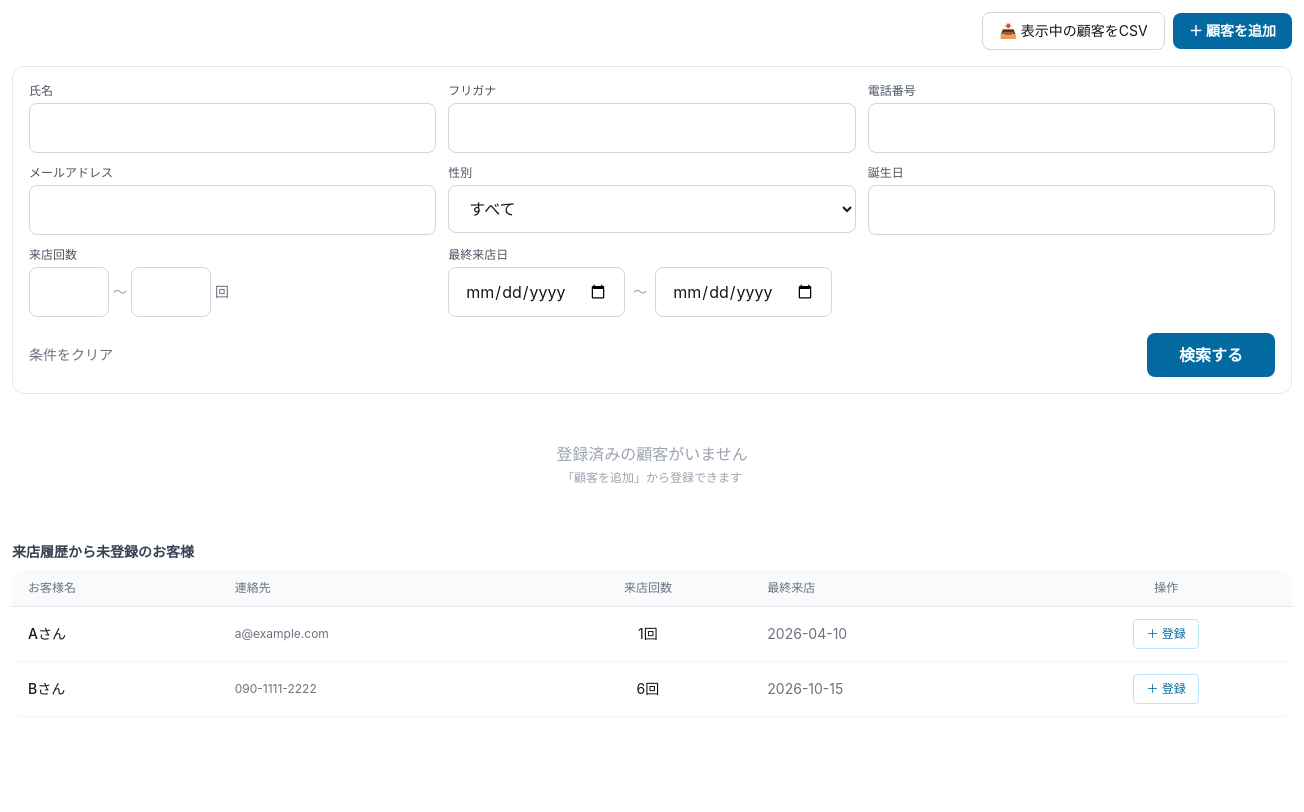
Scenario: 来店回数・最終来店日の条件が「来店履歴から未登録のお客様」にも効く（回帰）
This screenshot has width=1304, height=812.
expect the text "Aさん" is shown: met, box [12,606,219,662]
Type "5" into the number field named "来店回数（最小）" at (69, 292), box [29,267,109,317]
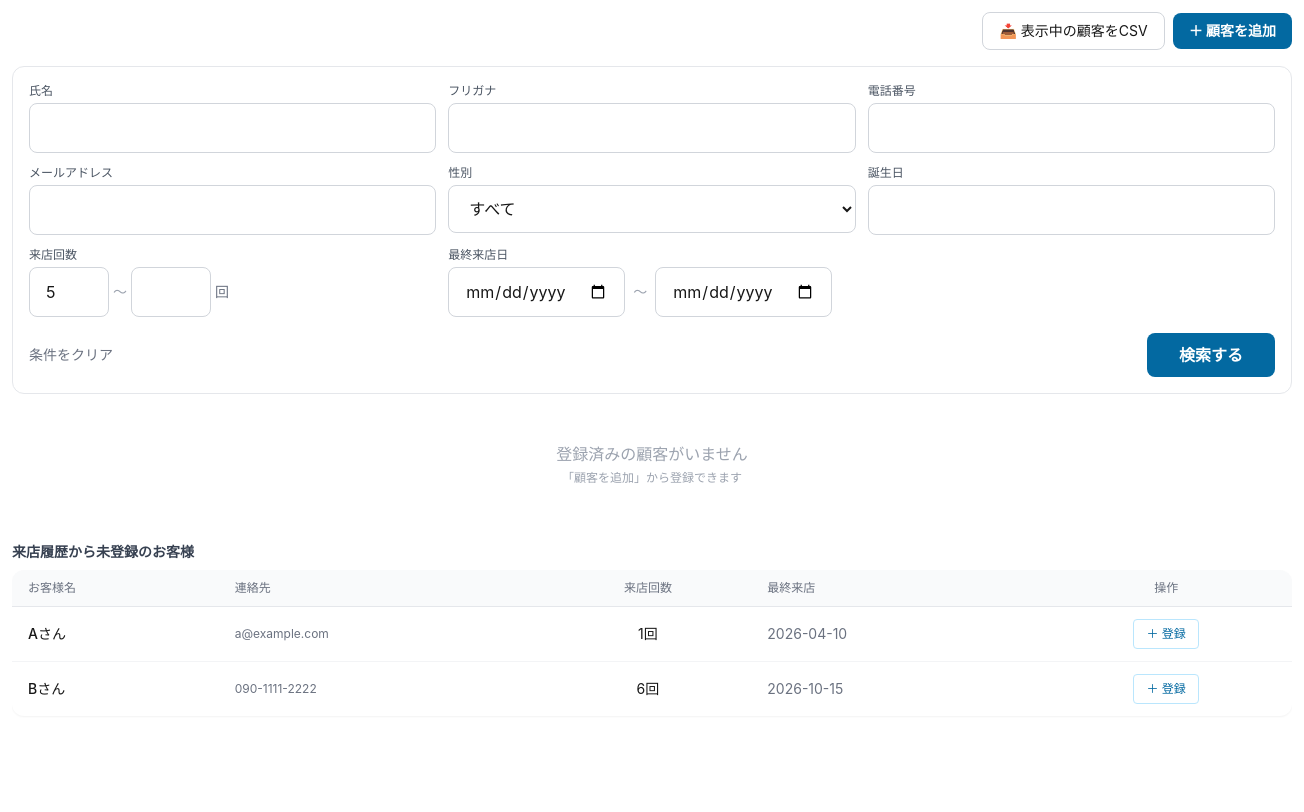
Type "2026-10-01" into the date field named "最終来店日（開始）" at (537, 292), box [448,267,625,317]
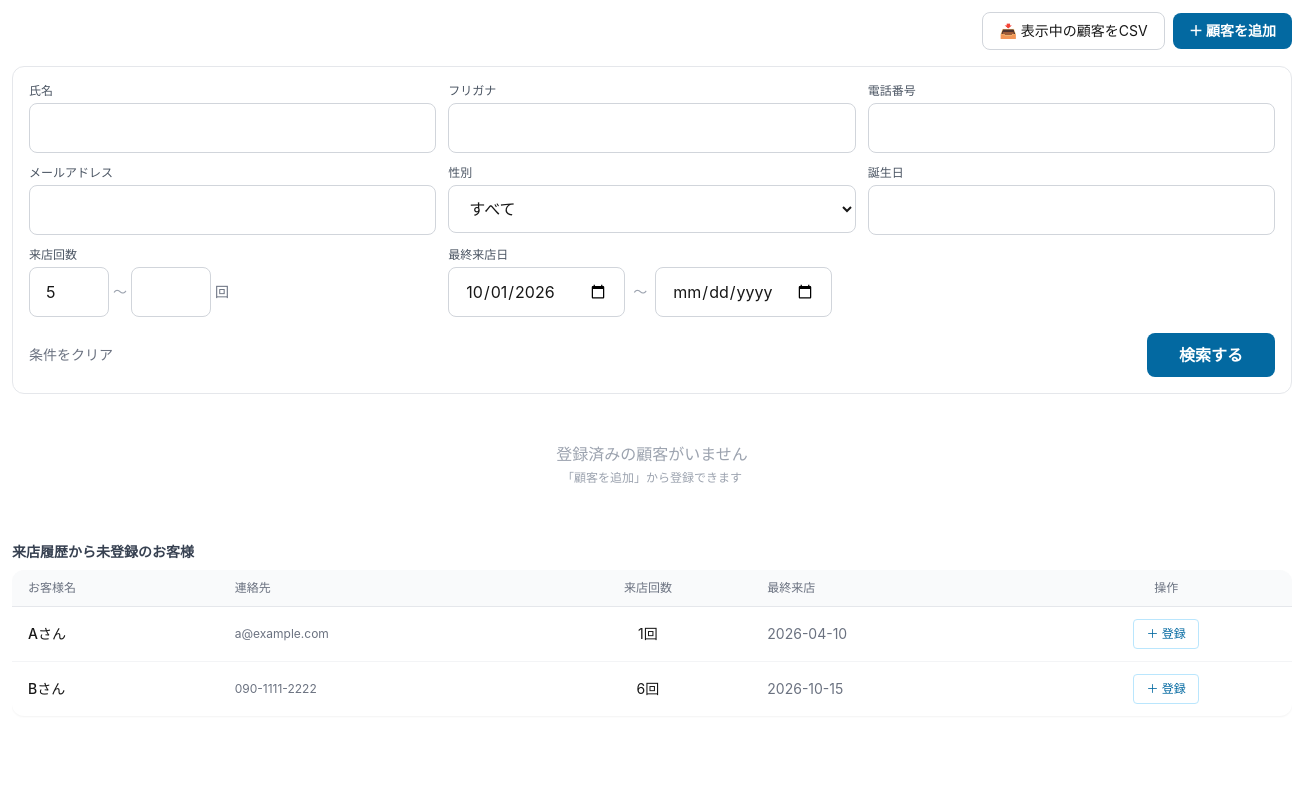
Click the button "検索する" at (1211, 355), box [1147,333,1275,377]
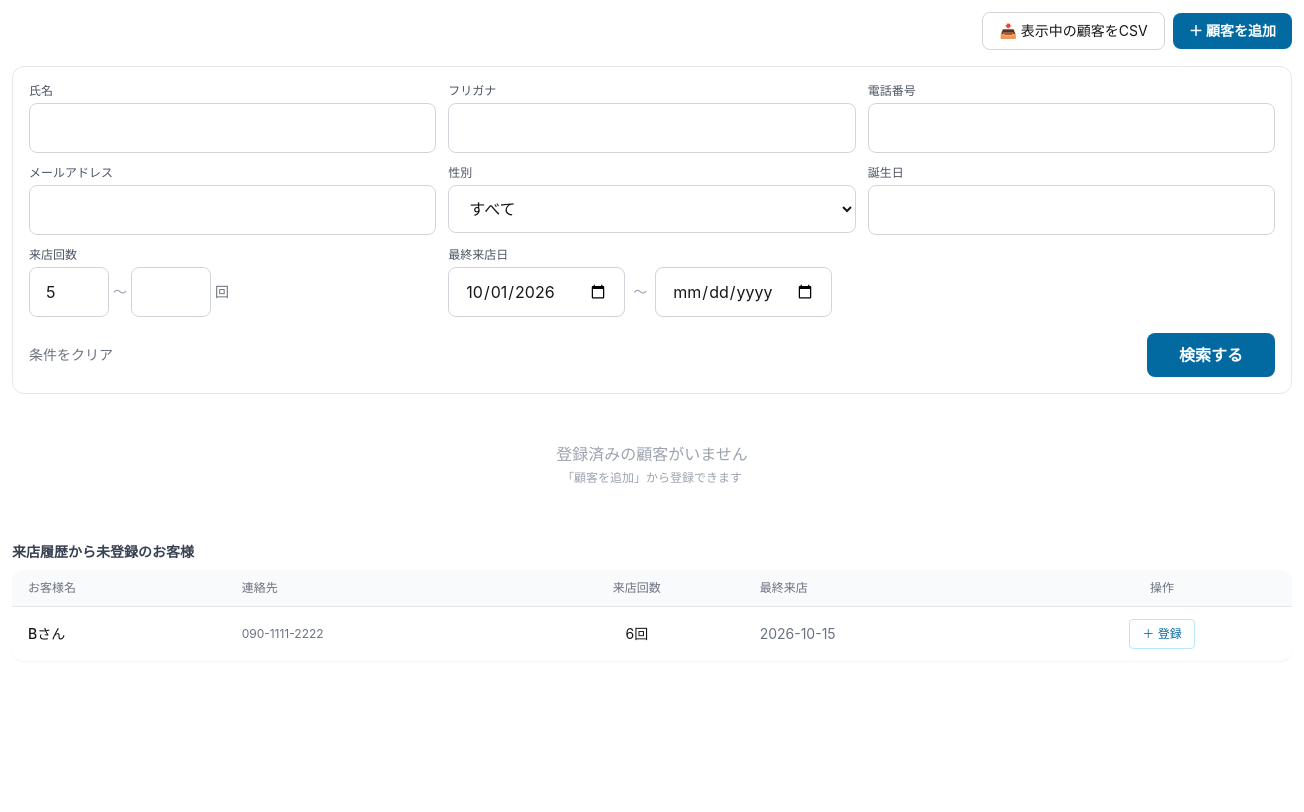
expect the text "Bさん" is shown: met, box [12,606,226,661]
expect the text "Aさん" is gone: met
Click the button "条件をクリア" at (71, 355), box [29,345,113,365]
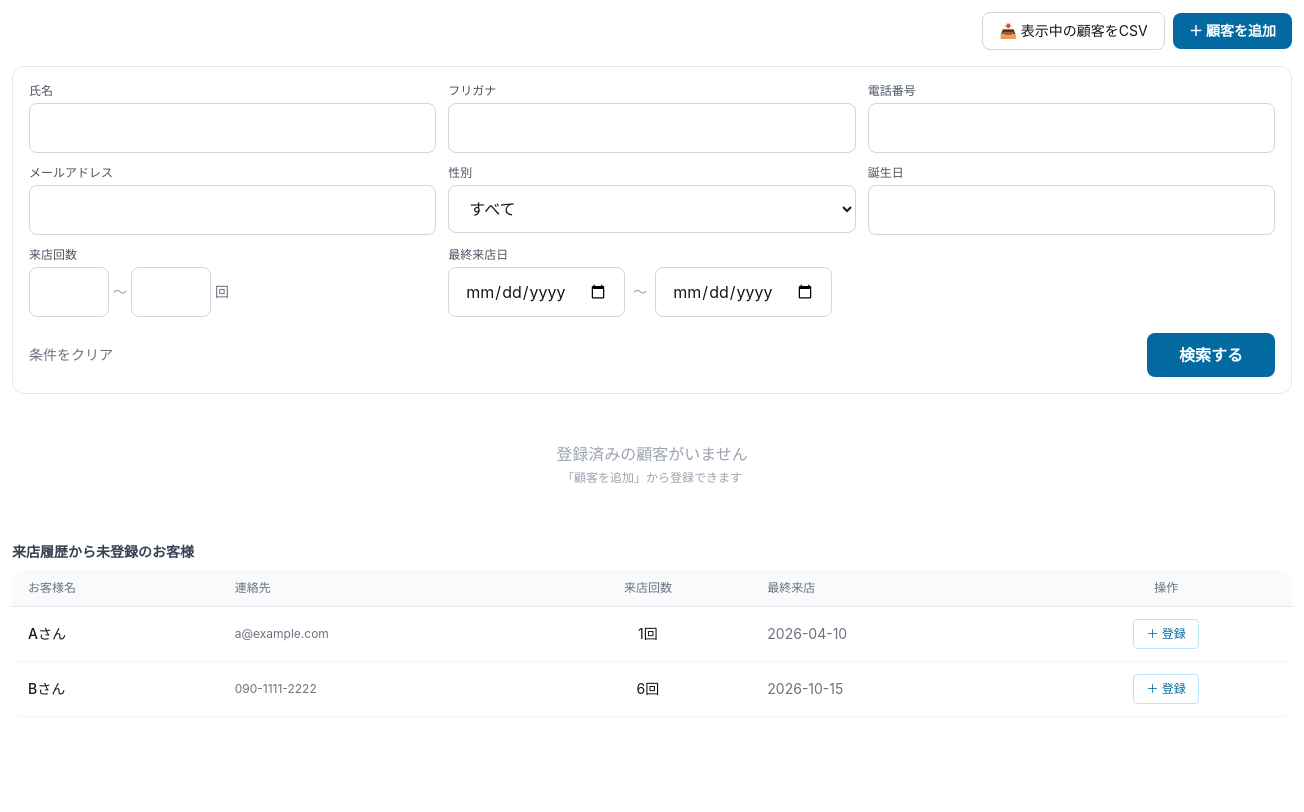
expect the text "Bさん" is shown: met, box [12,662,219,716]
expect the text "Aさん" is shown: met, box [12,606,219,662]
